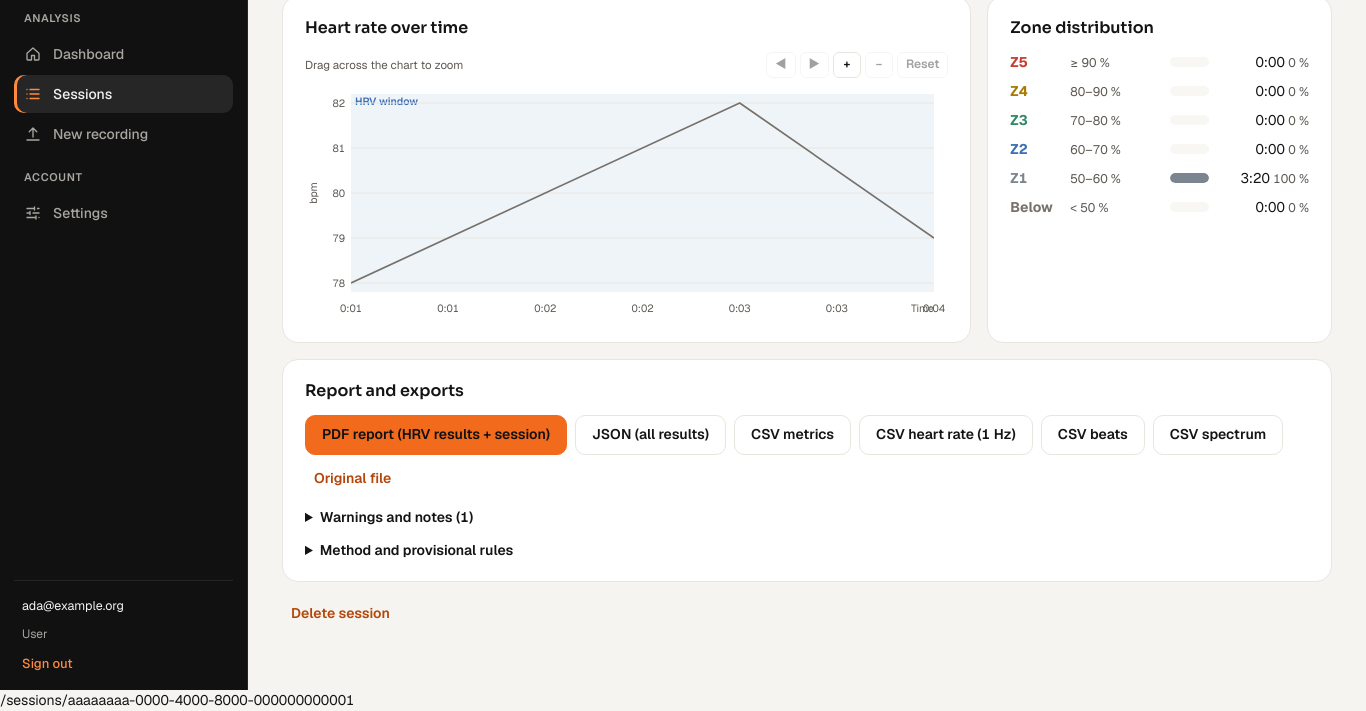
Test: session view › delete asks for confirmation, then returns to the list
(page scrolled)
What coordinates should you click on to do the following:
click the button "Delete session"
I would click on:
 (340, 614)
Its box is [282,598,399,630].
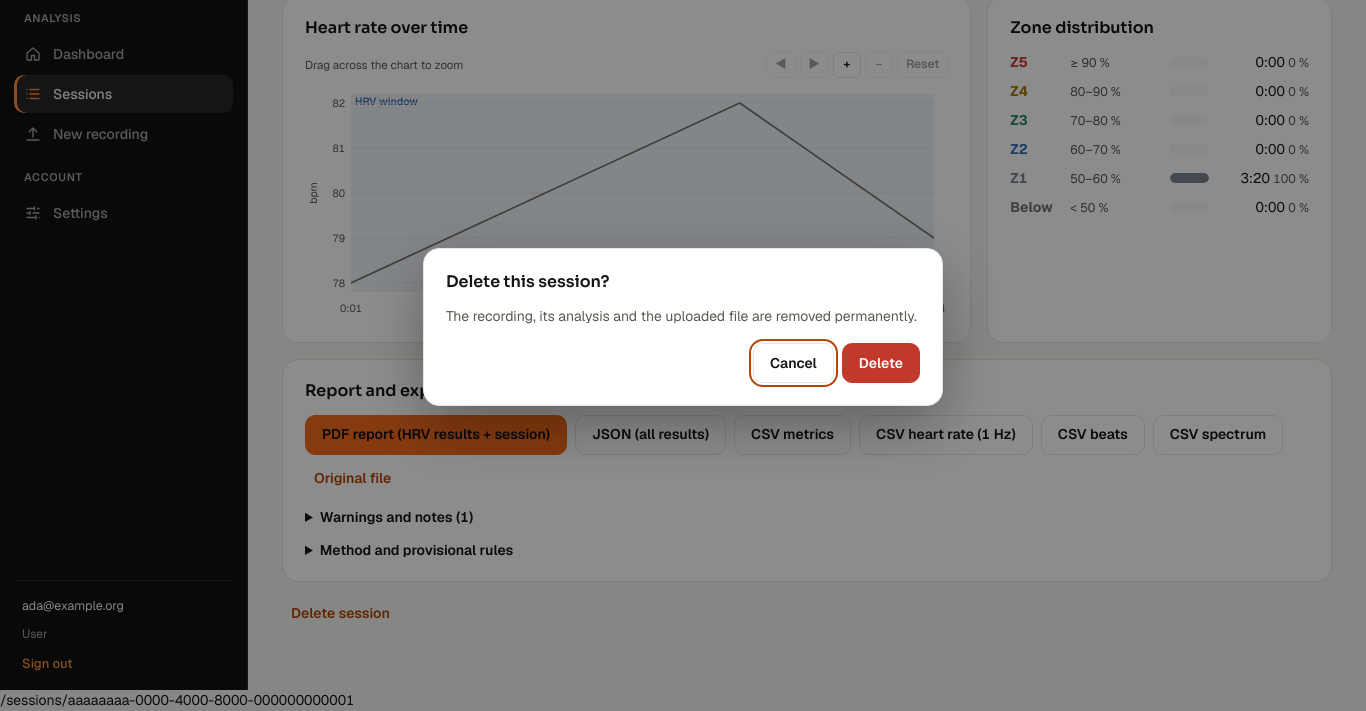
What coordinates should you click on to do the following:
click the button "Delete"
I would click on:
 (881, 363)
Its box is [842,343,920,383].
(page scrolled)
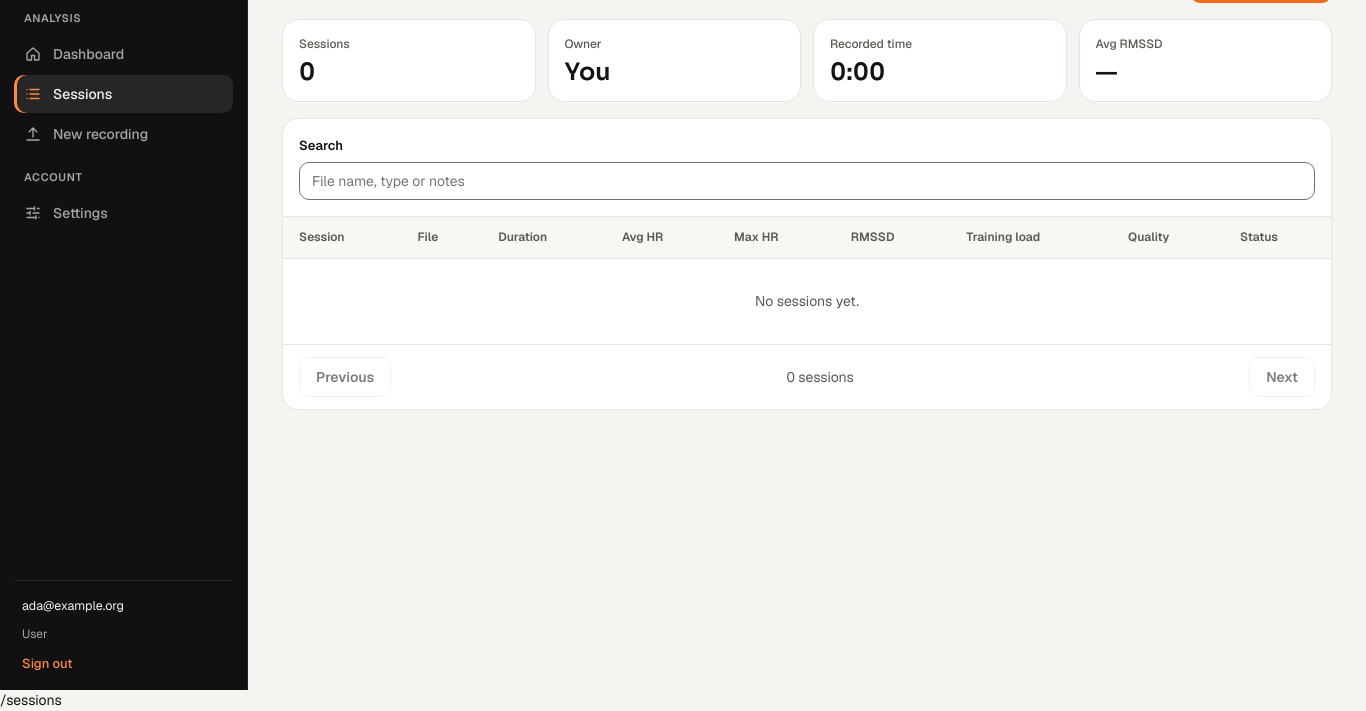
Expected: the text with test id "location" reads "/sessions", [0,691,62,709]
